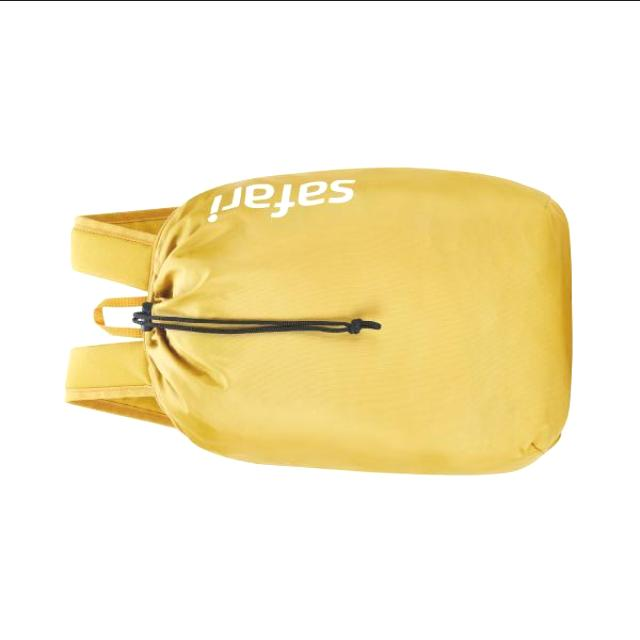backpack: (64, 167, 574, 477)
